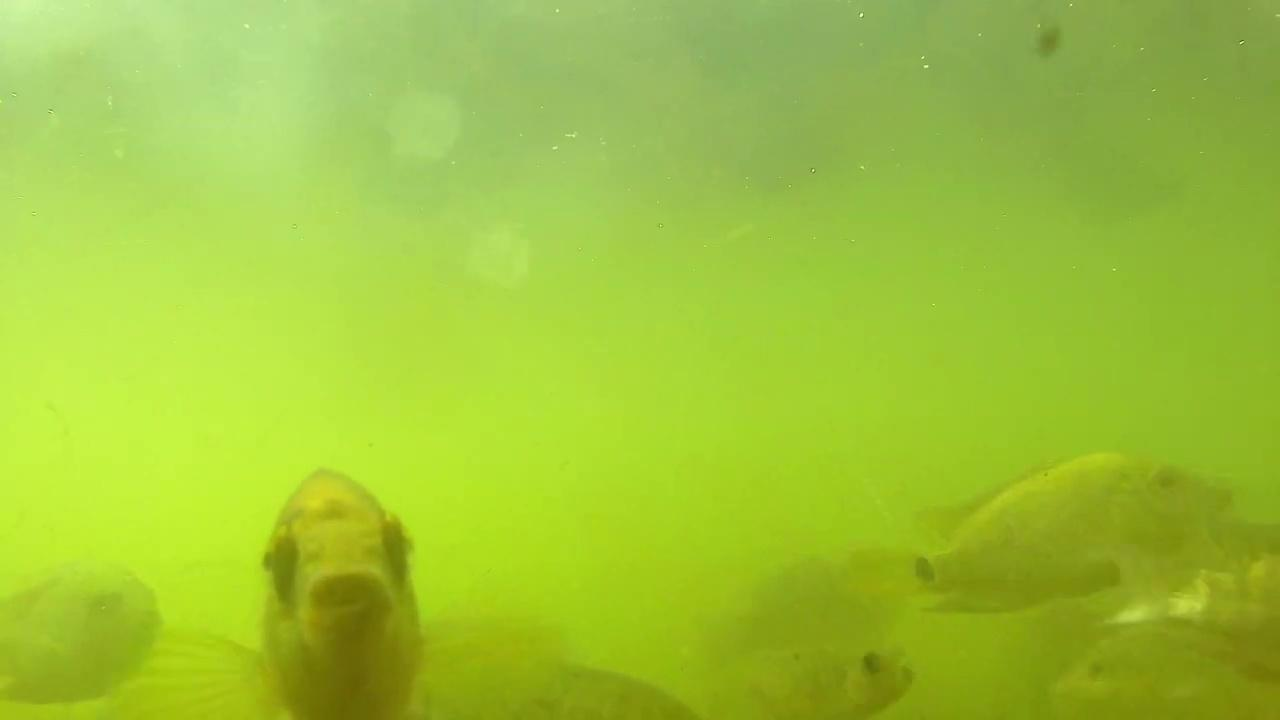Tilapia: (863, 452, 1244, 602), (235, 462, 432, 720), (709, 524, 938, 668), (5, 560, 165, 720), (1061, 624, 1280, 720)
